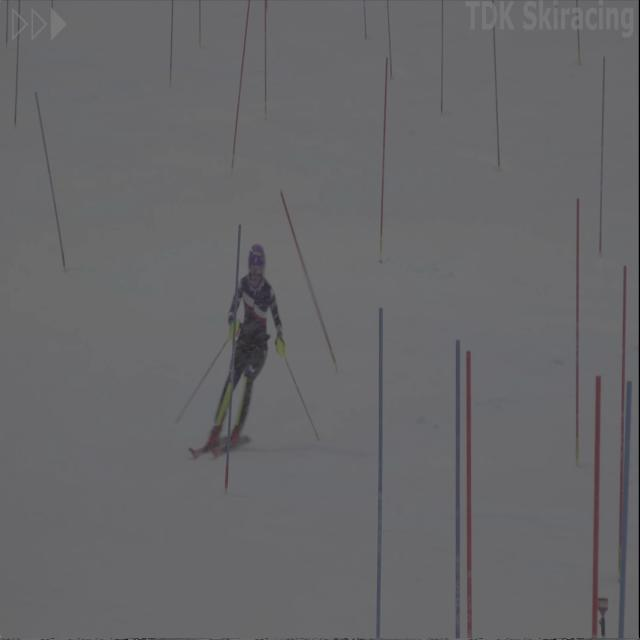gate: (356, 300, 395, 640), (436, 352, 464, 637), (561, 192, 586, 500), (564, 196, 585, 473), (465, 330, 479, 637), (379, 42, 387, 273)
